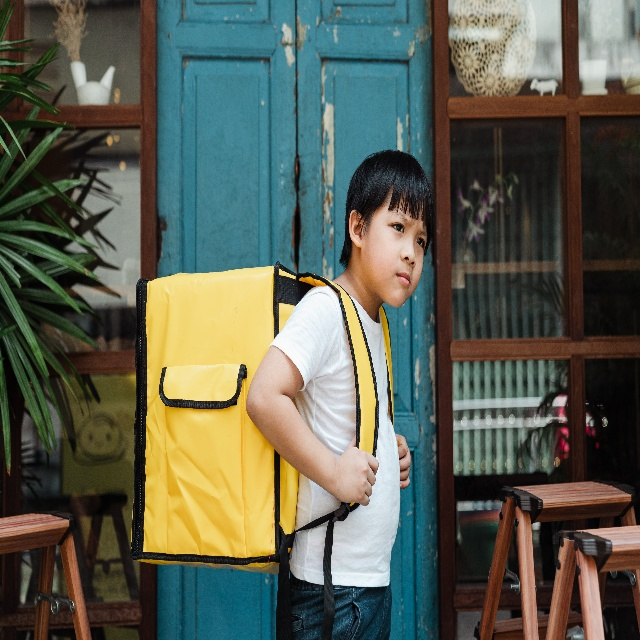Sin_guantes: (337, 432, 380, 508), (395, 429, 413, 484)
